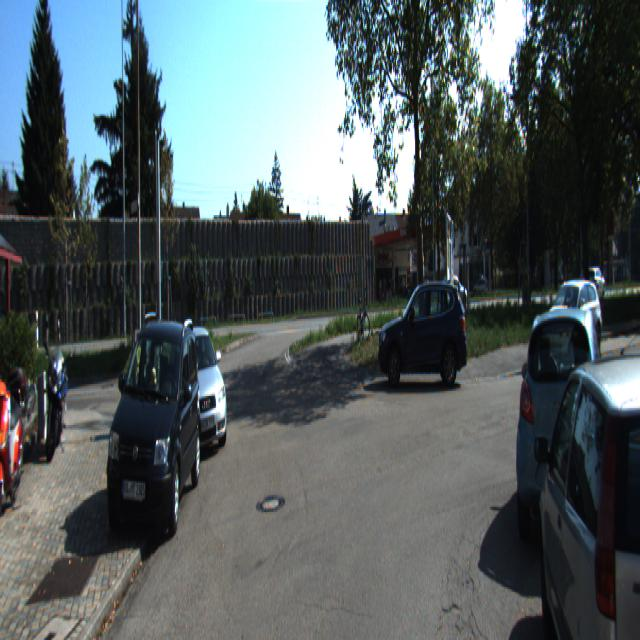Car: (534, 324, 640, 638), (510, 283, 612, 575), (102, 301, 206, 552), (374, 274, 470, 392), (165, 320, 232, 468), (535, 286, 604, 368), (434, 274, 468, 311)
